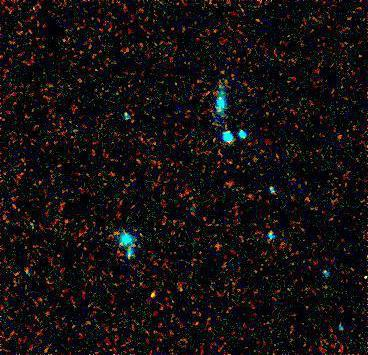star: (140, 275, 170, 305)
